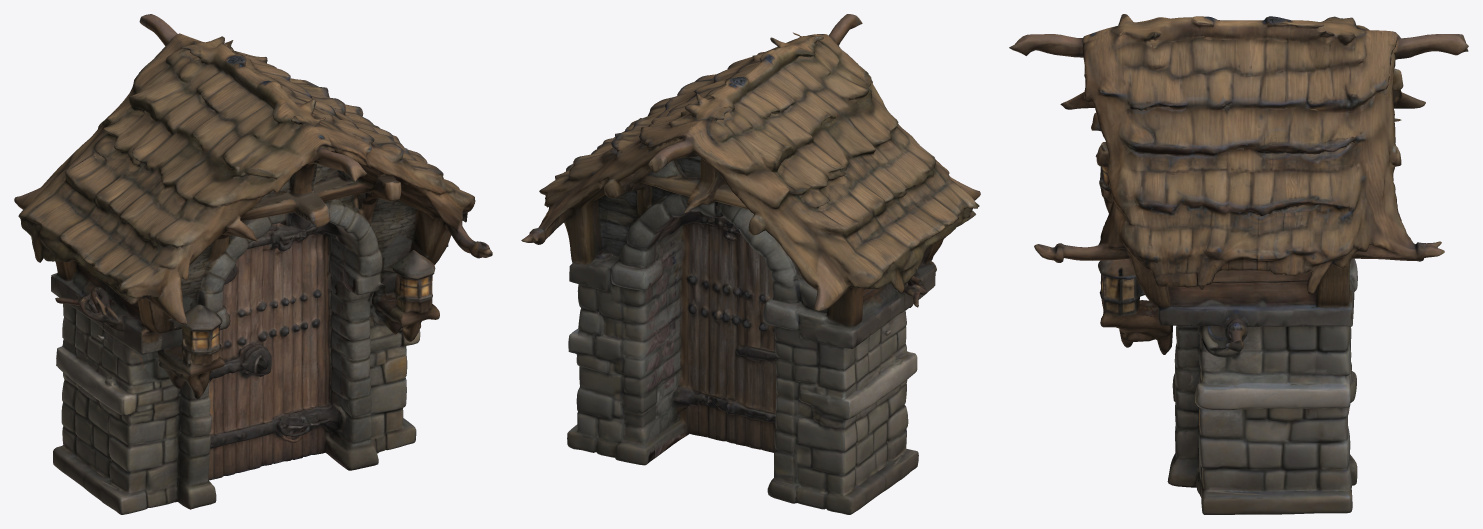
File: secret-door.glb
3 renders of one model, left to right at view 1: azimuth 30°, elevation 25°; view 2: azimuth 150°, elevation 25°; view 3: azimuth 270°, elevation 25°, orthographic. The views are drawn at different scales.
Size of the model in its own units: 1.97 by 1.99 by 1.95.
Materials: 1 (1 with a texture image).
